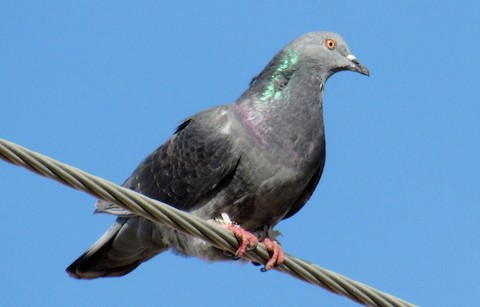pigeon: (62, 27, 374, 285)
